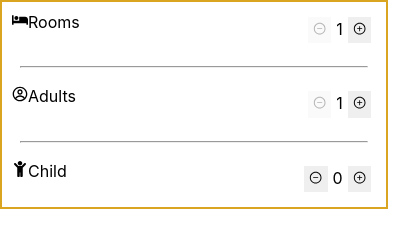
<RoomBooking /> default button status › decrement button not disabled  when increment button click
The width and height of the screenshot is (405, 226).
Click the button with test id "incrementRooms" at (359, 30), box [348,17,371,43]
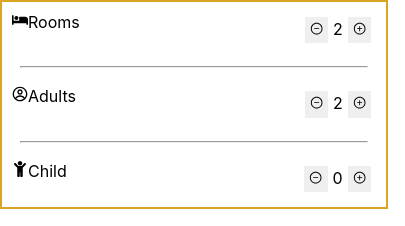
expect the button with test id "decrementRooms" is enabled: met, box [305,17,328,43]
